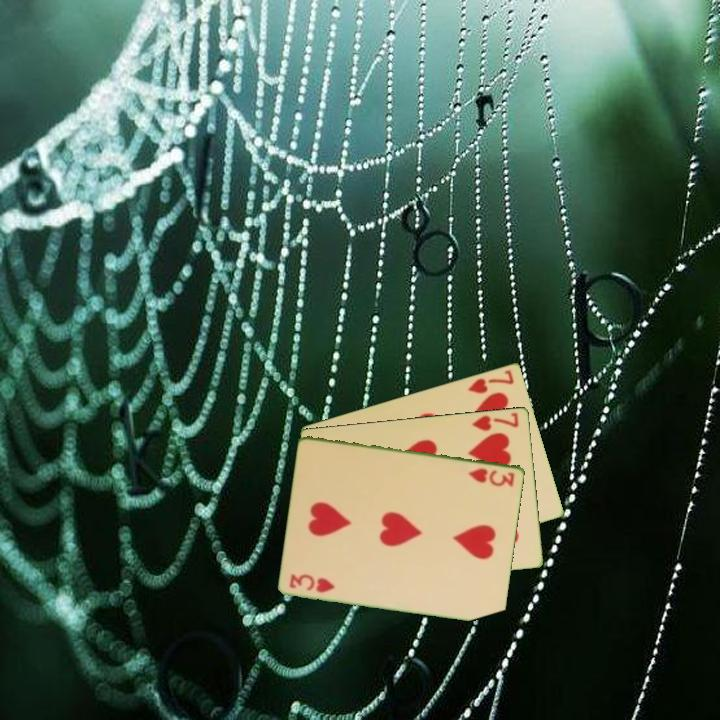3h: (286, 570, 338, 596), (465, 464, 518, 489)
7h: (464, 366, 517, 396), (468, 409, 522, 433)
